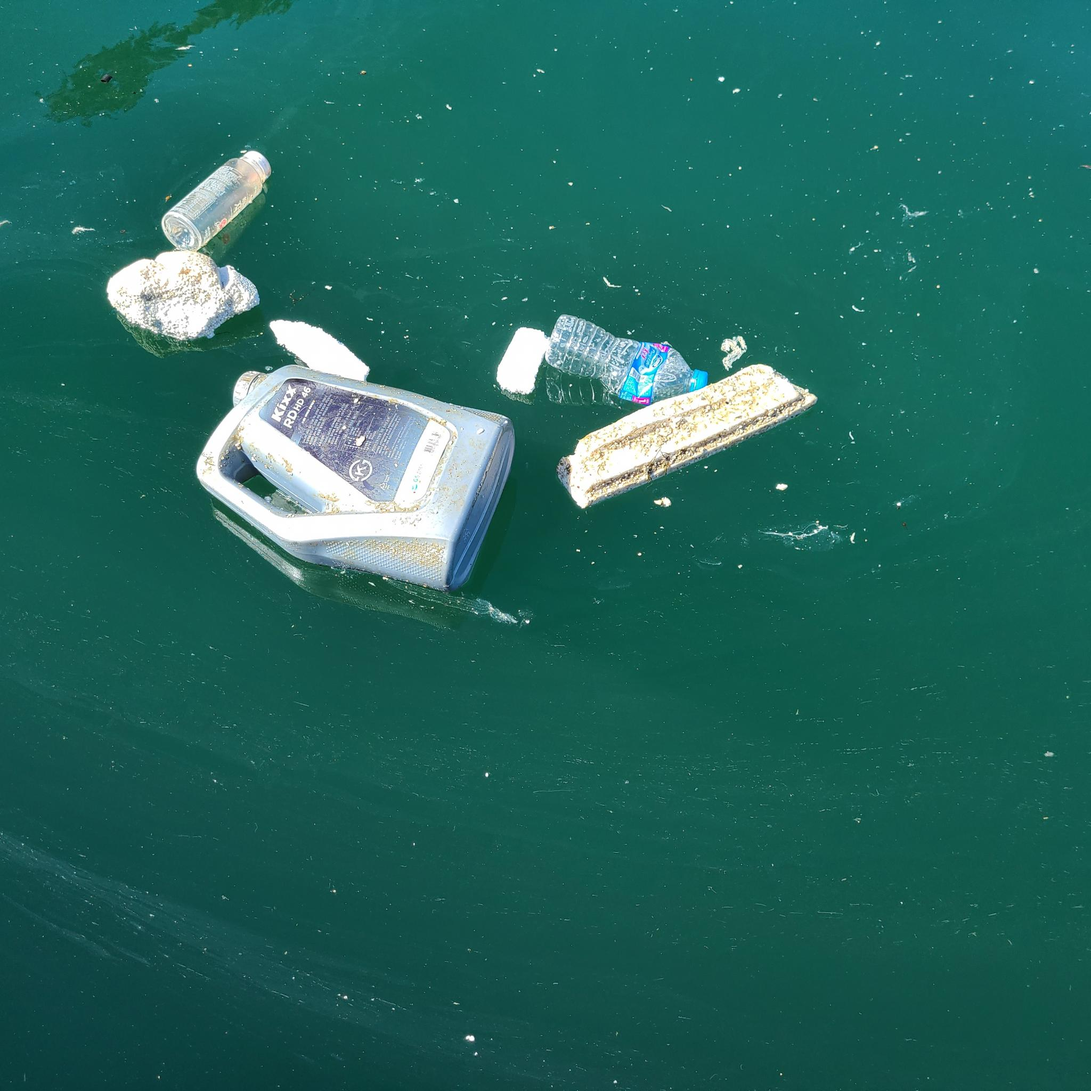sampah_terapung: (197, 365, 516, 594), (545, 314, 709, 406), (107, 251, 260, 341), (162, 151, 272, 251), (270, 320, 371, 383), (496, 328, 550, 396)
